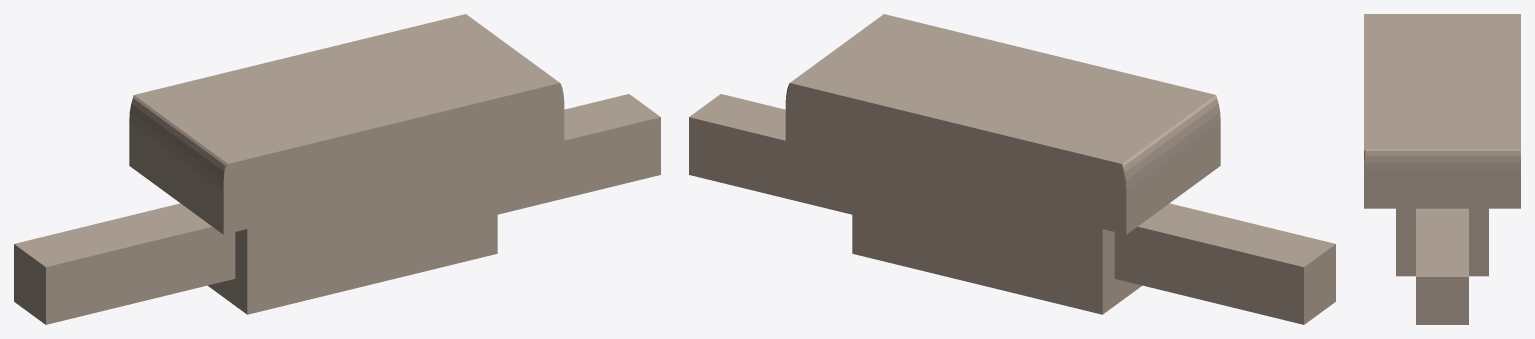
Rendered from FENCE 1.fbx.
3 views of the same model, side by side, from view 1: azimuth 30°, elevation 25°; view 2: azimuth 150°, elevation 25°; view 3: azimuth 270°, elevation 25° (orthographic). The views are drawn at different scales.
Parts seen in each view (by area): view 1: Fence, fenceLinker; view 2: Fence, fenceLinker; view 3: Fence, fenceLinker.
Boxes of the visible parts, left/top/right/bottom form: Fence: left=129, top=14, right=564, bottom=314; fenceLinker: left=14, top=94, right=660, bottom=324; Fence: left=785, top=14, right=1220, bottom=314; fenceLinker: left=689, top=94, right=1335, bottom=324; Fence: left=1364, top=14, right=1520, bottom=276; fenceLinker: left=1416, top=208, right=1468, bottom=324.
Bounding box in the file's own units: 92.43 × 25.01 × 24.53.
